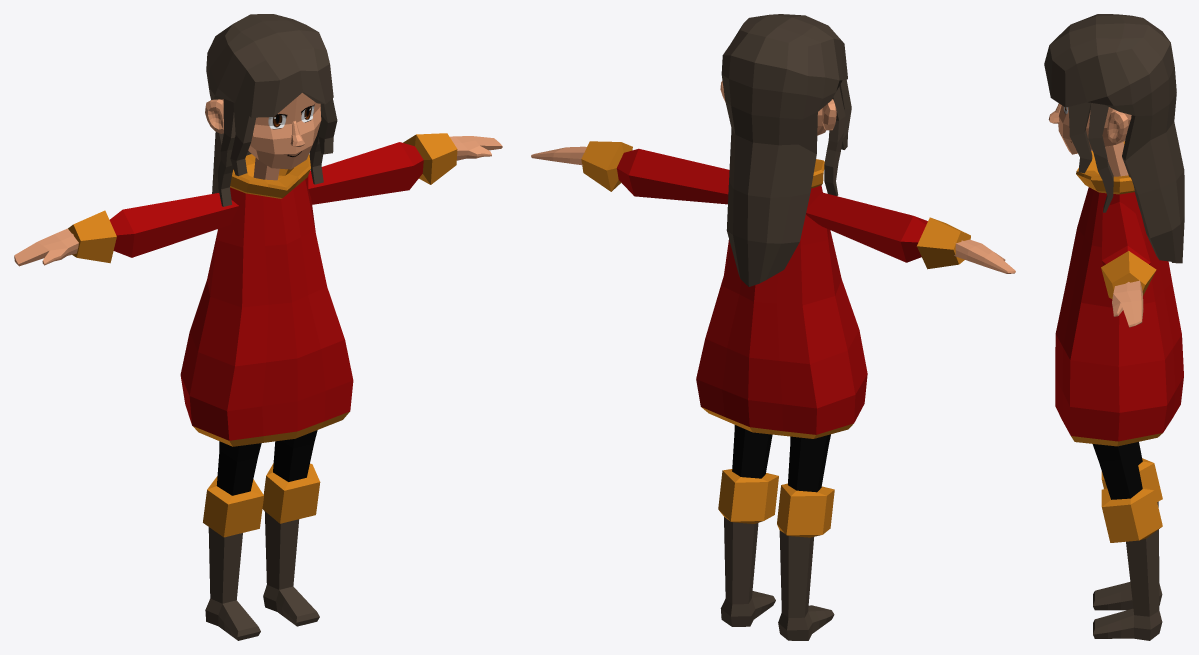
Rendered from inaara.fbx.
The picture shows the model from 3 angles, left to right: view 1: azimuth 30°, elevation 25°; view 2: azimuth 150°, elevation 25°; view 3: azimuth 270°, elevation 25°; orthographic projection.
Visible parts, largest first — view 1: Body, Legs, Arms, Hair, Head; view 2: Body, Hair, Legs, Arms; view 3: Body, Hair, Legs, Arms, Head, Ears, Neck.
Part boxes in pixels (x1,y1,x2,y2): Body: [180, 154, 353, 446]; Legs: [203, 430, 320, 640]; Arms: [14, 133, 502, 266]; Hair: [206, 14, 337, 229]; Head: [220, 93, 321, 169]; Body: [696, 159, 867, 438]; Hair: [721, 14, 851, 286]; Legs: [718, 425, 834, 640]; Arms: [531, 141, 1015, 273]; Body: [1055, 141, 1183, 446]; Hair: [1044, 14, 1184, 263]; Legs: [1092, 442, 1162, 640]; Arms: [1101, 202, 1156, 327]; Head: [1058, 105, 1131, 154]; Ears: [1107, 109, 1128, 142]; Neck: [1105, 142, 1128, 176].
Bounding box in the file's own units: 404 × 477 × 102.
Materials: 7 (7 with a texture image).
